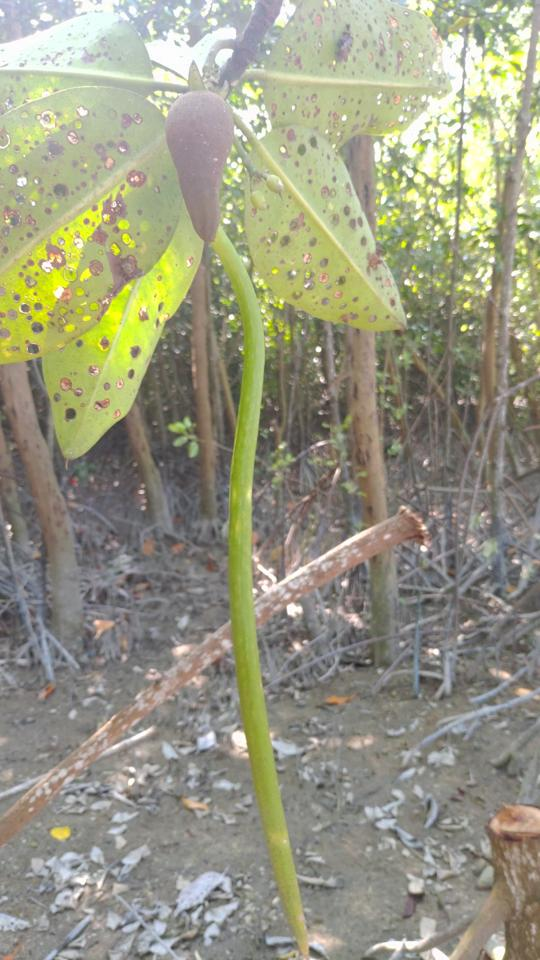mentah: (139, 47, 338, 959)
